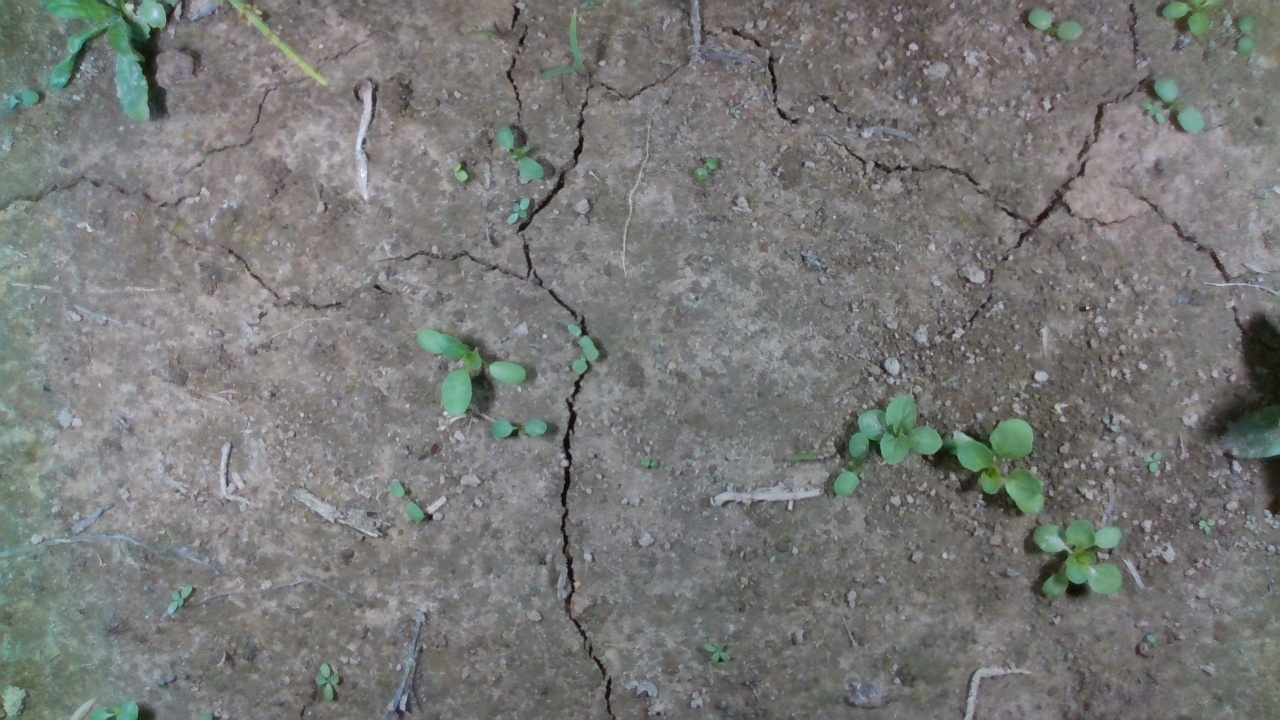weed: (490, 414, 570, 455), (1152, 77, 1207, 134), (626, 447, 690, 478), (384, 482, 430, 525), (1027, 7, 1084, 41), (157, 581, 202, 615), (306, 660, 349, 693), (689, 155, 730, 184), (506, 199, 543, 231), (1232, 15, 1256, 53), (702, 638, 733, 663), (1140, 100, 1169, 126), (447, 159, 473, 182)
